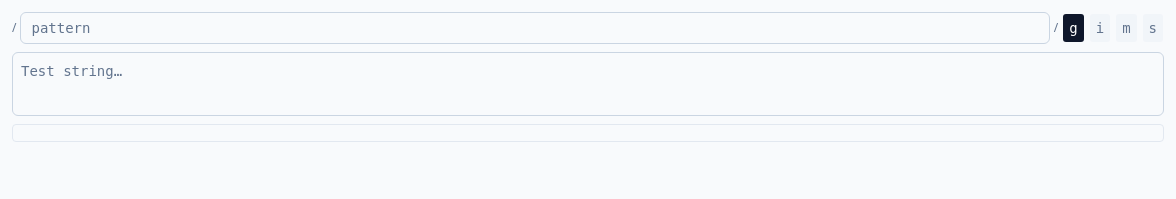
Test case: RegexTesterWidget › handles a zero-width-match pattern without hanging or growing unbounded
The width and height of the screenshot is (1176, 199).
Click the field with placeholder "pattern": x=535, y=28 top-left (20, 12), bottom-right (1050, 44)
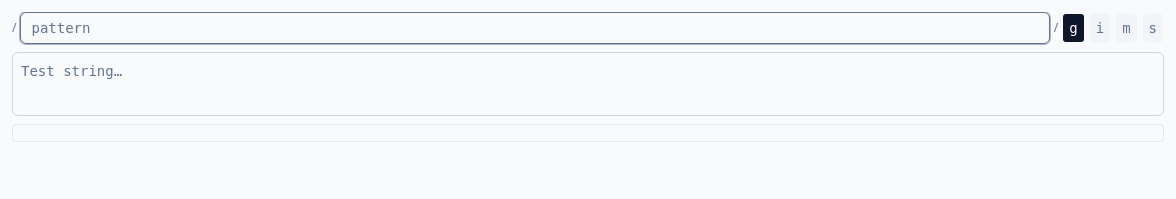
Type keys "x*"
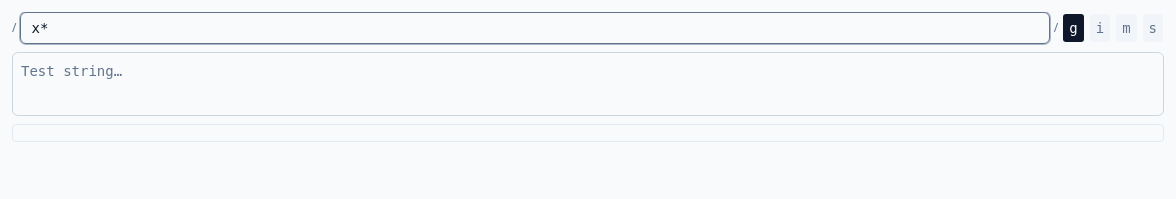
Click the text box with placeholder "Test string…": x=588, y=84 top-left (12, 52), bottom-right (1164, 116)
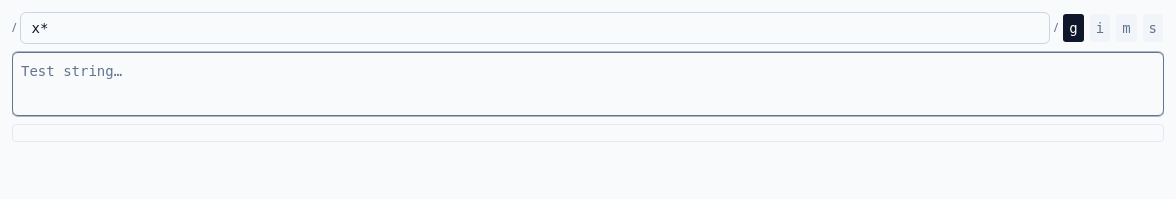
Type keys "abc"
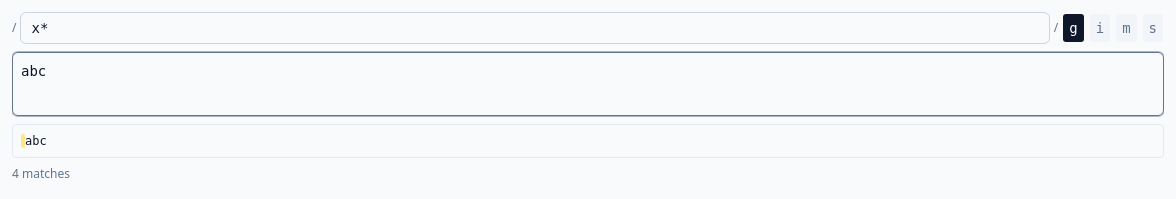
expect the text "4 matches" is shown: met, box top-left (12, 165), bottom-right (70, 182)
